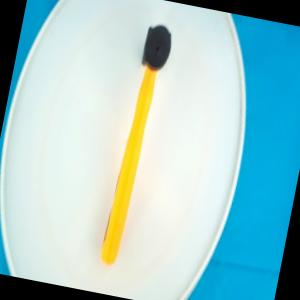martelo: (97, 20, 174, 270)
